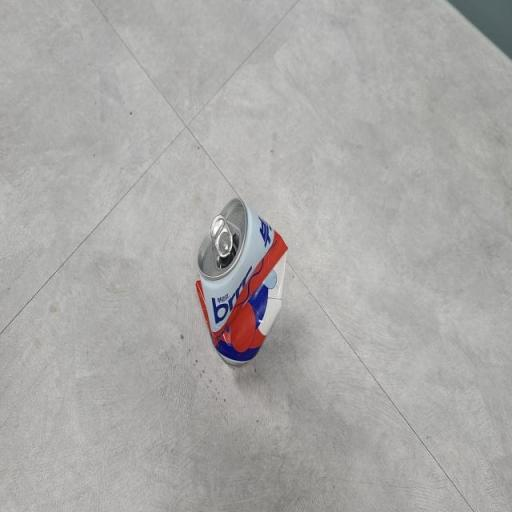metal: (189, 178, 299, 389)
